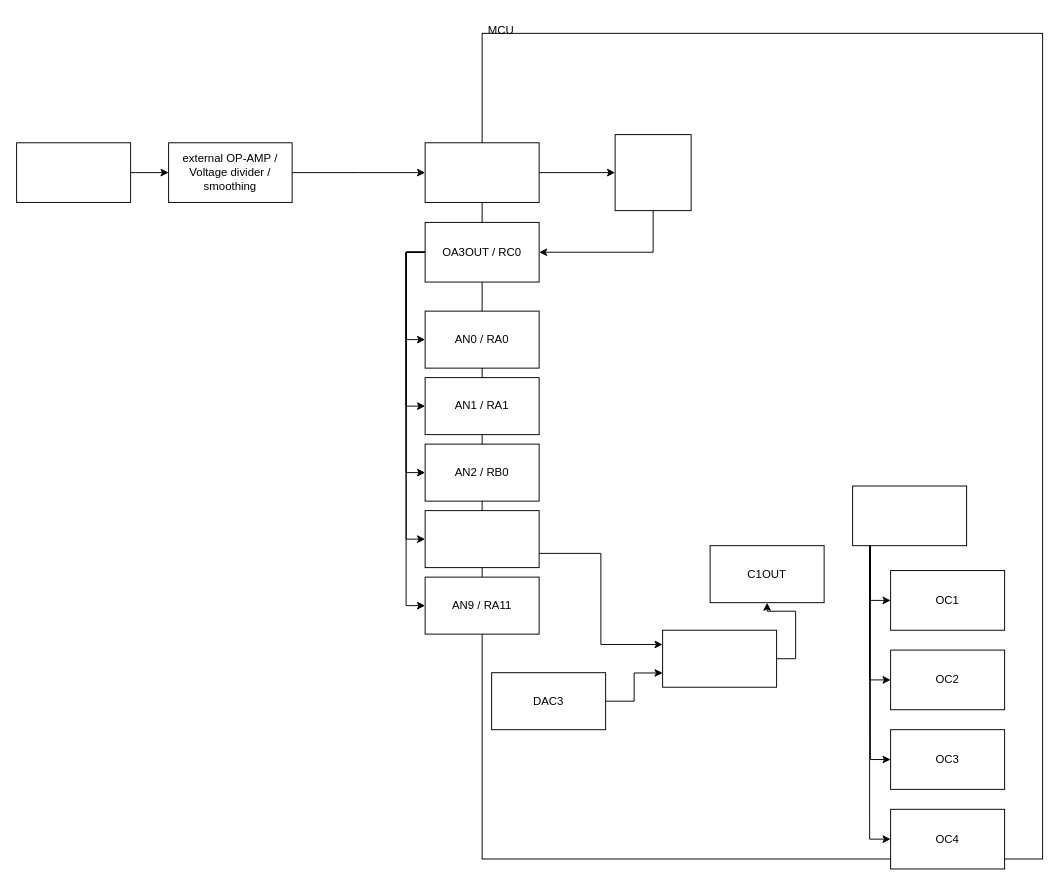
Image size: 1059x885. Some labels were removed from this diagram. Each missing label, with the centre of its shape:
AN3 / RB1: the point at 481,539
BNC: the point at 73,172
CM1: the point at 719,658
CMP3 / OPAMP3: the point at 652,172
OA3IN+ / RC2: the point at 481,172
Timer3: the point at 909,515
